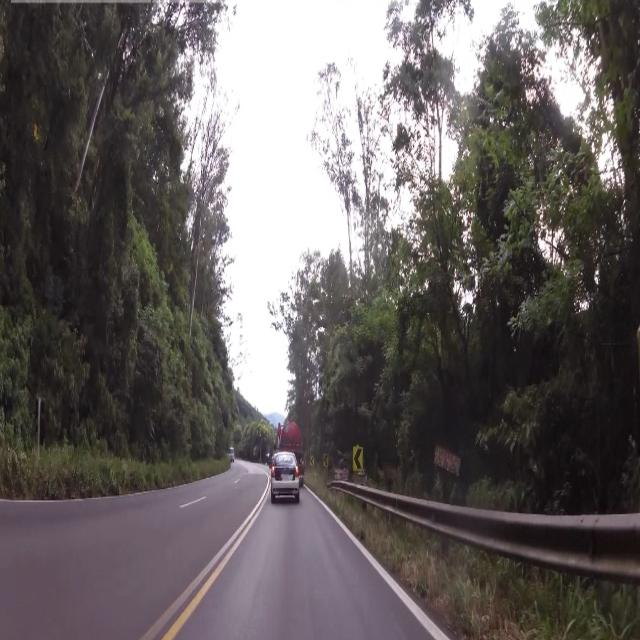Del: (352, 445, 364, 471)
